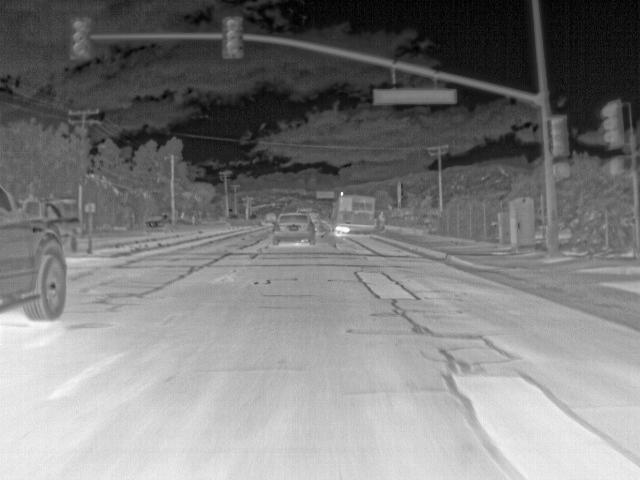car: (3, 182, 68, 321), (17, 199, 84, 253), (273, 210, 313, 243), (144, 213, 172, 233), (260, 210, 277, 225), (308, 212, 321, 230)
person: (377, 211, 387, 230)
